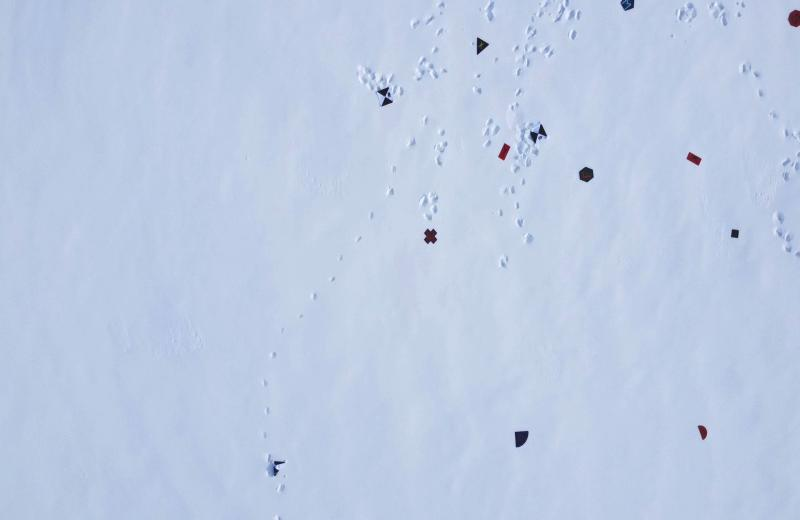Cross: (424, 228, 439, 246)
Hexagon: (786, 8, 800, 30), (579, 165, 595, 184)
Pentagon: (619, 0, 636, 12)
Quarter Circle: (512, 429, 530, 450)
Rectangle: (686, 147, 702, 171), (496, 141, 512, 160)
Semi Circle: (696, 424, 710, 442)
Square: (729, 227, 741, 241)
Triangle: (473, 37, 491, 56)
